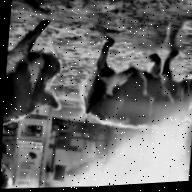boar: (74, 36, 192, 136), (3, 18, 68, 128)
